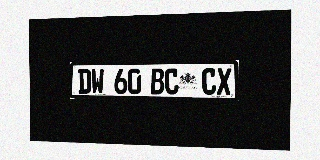0: (128, 69, 141, 94)
6: (114, 69, 127, 94)
B: (151, 68, 164, 94)
C: (202, 68, 216, 95), (165, 68, 179, 94)
D: (78, 69, 91, 94)
W: (91, 69, 104, 94)
X: (217, 68, 231, 95)
